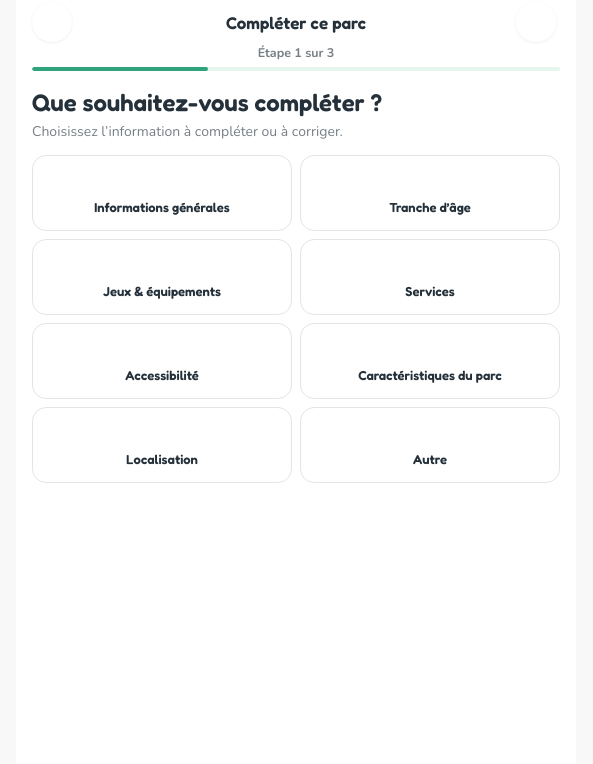
Test: EditInfo — persistent draft (LOT 3D.D) › submit success → the draft is cleared and cannot come back on pagehide
Step 1. Click the button "Informations générales" → (162, 193), box [32,155,292,231]
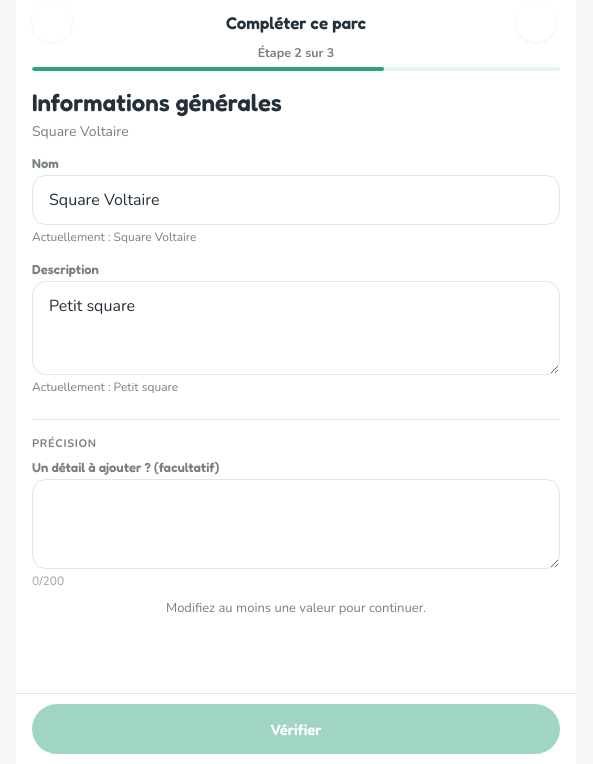
Step 2. Replace the text in the field labelled "Nom" with "Square Envoyé" → (296, 200), box [32,175,560,225]
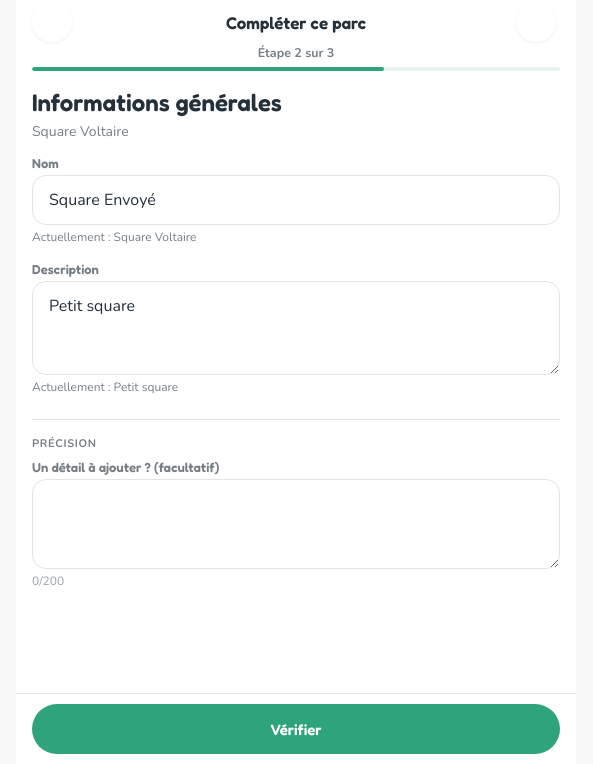
Step 3. Click the button "Vérifier" → (296, 729), box [32,704,560,754]
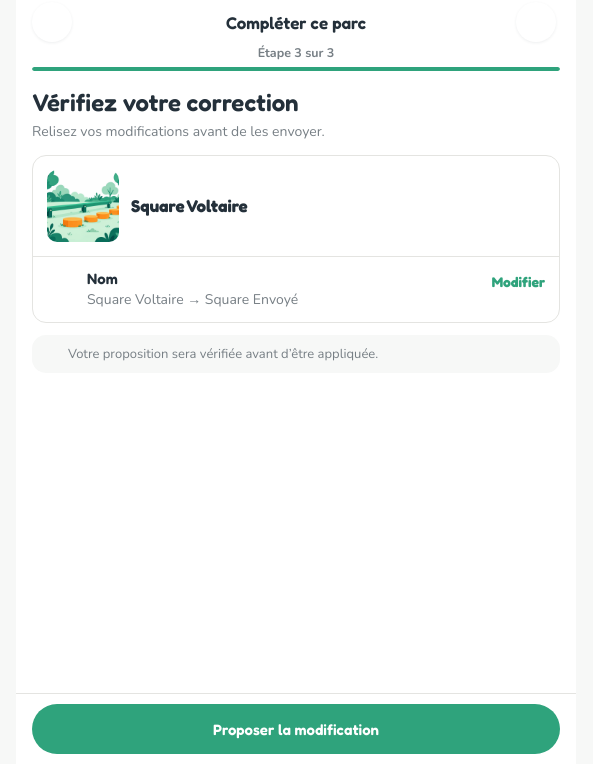
Step 4. Click the button "Proposer la modification" → (296, 729), box [32,704,560,754]
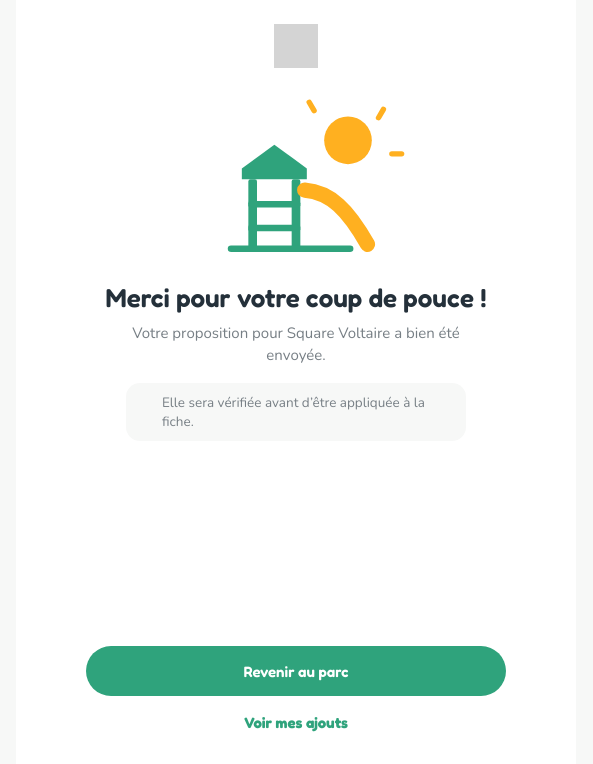
Check: the heading "Merci pour votre coup de pouce !" is shown, box [106,282,486,313]
